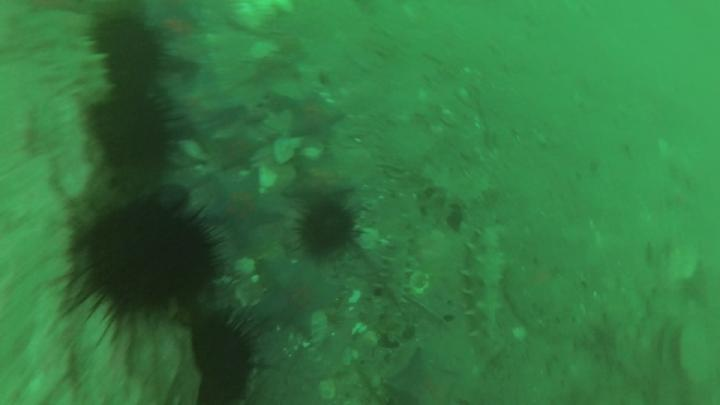echinus: (87, 209, 216, 311), (93, 94, 172, 167), (192, 319, 252, 405), (301, 203, 353, 254), (108, 29, 158, 77), (91, 18, 141, 48)
holothurian: (466, 229, 509, 346), (377, 230, 417, 325), (427, 167, 489, 210)
scallop: (233, 259, 257, 276), (413, 272, 431, 294)
starfish: (257, 257, 334, 333), (208, 176, 286, 245), (285, 95, 343, 145), (286, 161, 356, 200), (213, 128, 264, 169), (157, 7, 201, 36)
